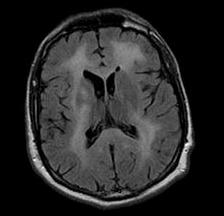Normal_Brain: (4, 1, 205, 214)
